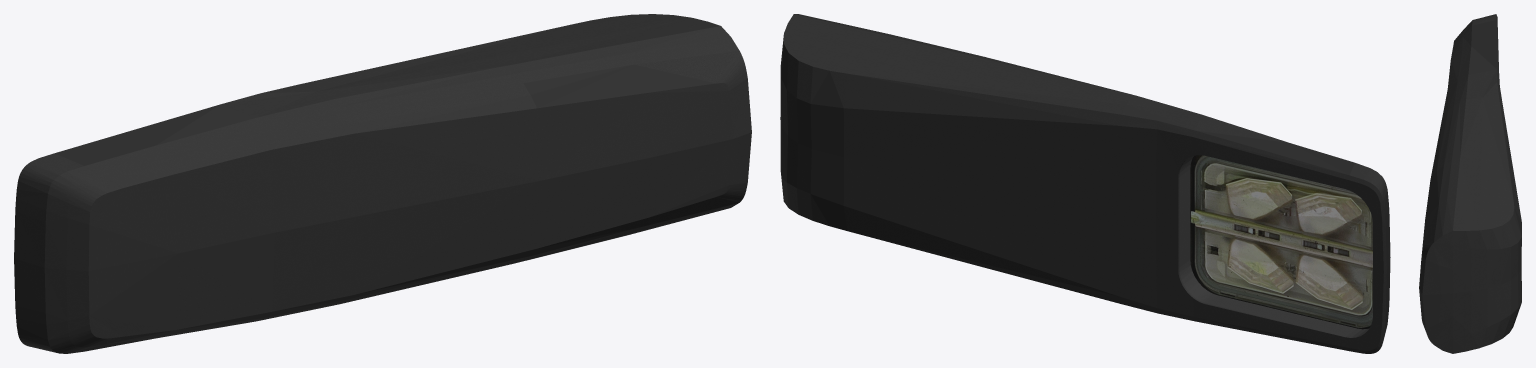
The model's file is SL_11_Micro.obj.
3 views of the same model, side by side, from view 1: azimuth 30°, elevation 25°; view 2: azimuth 150°, elevation 25°; view 3: azimuth 270°, elevation 25° (orthographic). The views are drawn at different scales.
Visible parts, largest first — view 1: Siteco_SL_11_micro; view 2: Siteco_SL_11_micro; view 3: Siteco_SL_11_micro.
Boxes of the visible parts, left/top/right/bottom form: Siteco_SL_11_micro: left=14, top=14, right=751, bottom=353; Siteco_SL_11_micro: left=780, top=14, right=1390, bottom=353; Siteco_SL_11_micro: left=1419, top=14, right=1521, bottom=353.
Bounding box in the file's own units: 0.5974 × 0.1744 × 0.1159.
3 materials, 2 textured.
